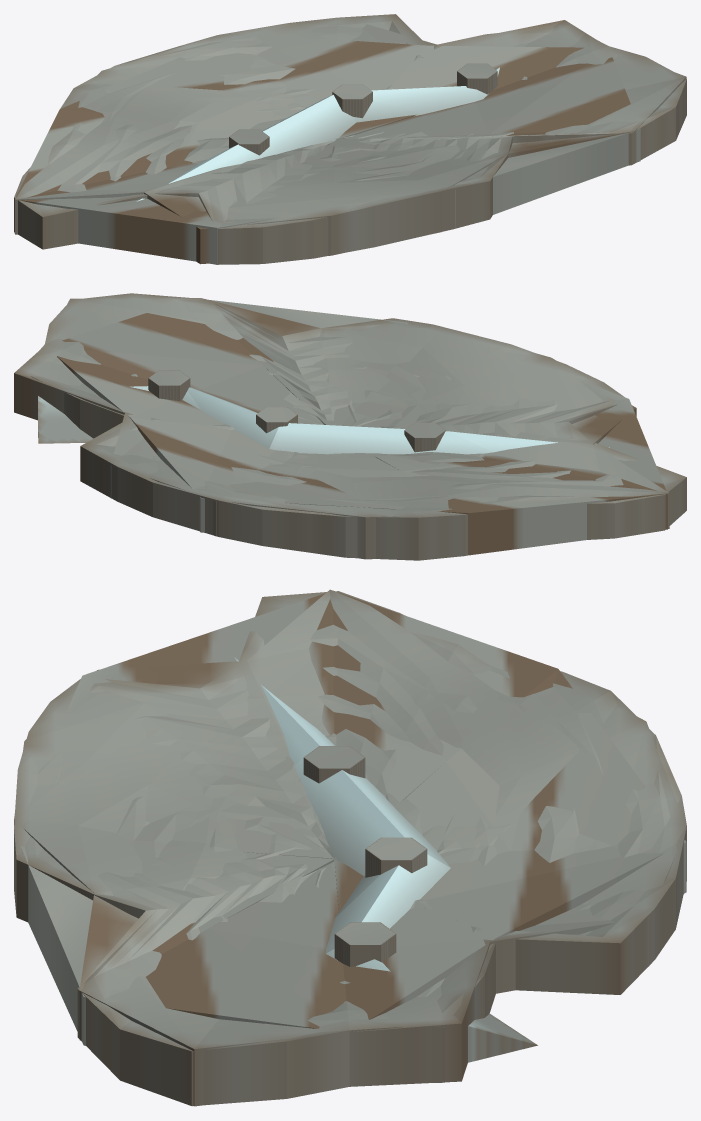
The model's file is SF_INCL_ICE_FRACTURE_VEIN_V1.glb.
3 renders of one model, top to bottom at view 1: azimuth 30°, elevation 25°; view 2: azimuth 150°, elevation 25°; view 3: azimuth 270°, elevation 25°, orthographic. The views are drawn at different scales.
Parts seen in each view (by area): view 1: LOD0_SF_INCL_ICE_FRACTURE_VEIN_V1, LOD2_SF_INCL_ICE_FRACTURE_VEIN_V1, LOD1_SF_INCL_ICE_FRACTURE_VEIN_V1; view 2: LOD0_SF_INCL_ICE_FRACTURE_VEIN_V1, LOD2_SF_INCL_ICE_FRACTURE_VEIN_V1, LOD1_SF_INCL_ICE_FRACTURE_VEIN_V1; view 3: LOD0_SF_INCL_ICE_FRACTURE_VEIN_V1, LOD2_SF_INCL_ICE_FRACTURE_VEIN_V1, LOD1_SF_INCL_ICE_FRACTURE_VEIN_V1.
Boxes of the visible parts, x1,y1,x2,y2 form: LOD0_SF_INCL_ICE_FRACTURE_VEIN_V1: (14,14,686,264); LOD2_SF_INCL_ICE_FRACTURE_VEIN_V1: (14,34,640,264); LOD1_SF_INCL_ICE_FRACTURE_VEIN_V1: (15,20,686,264); LOD0_SF_INCL_ICE_FRACTURE_VEIN_V1: (30,293,686,560); LOD2_SF_INCL_ICE_FRACTURE_VEIN_V1: (57,299,667,555); LOD1_SF_INCL_ICE_FRACTURE_VEIN_V1: (14,298,669,559); LOD0_SF_INCL_ICE_FRACTURE_VEIN_V1: (14,591,686,1106); LOD2_SF_INCL_ICE_FRACTURE_VEIN_V1: (14,590,686,1045); LOD1_SF_INCL_ICE_FRACTURE_VEIN_V1: (14,589,686,1106).
Size of the model in its own units: 1.42 by 0.0904 by 0.8705.
Materials: 1 (1 with a texture image).
